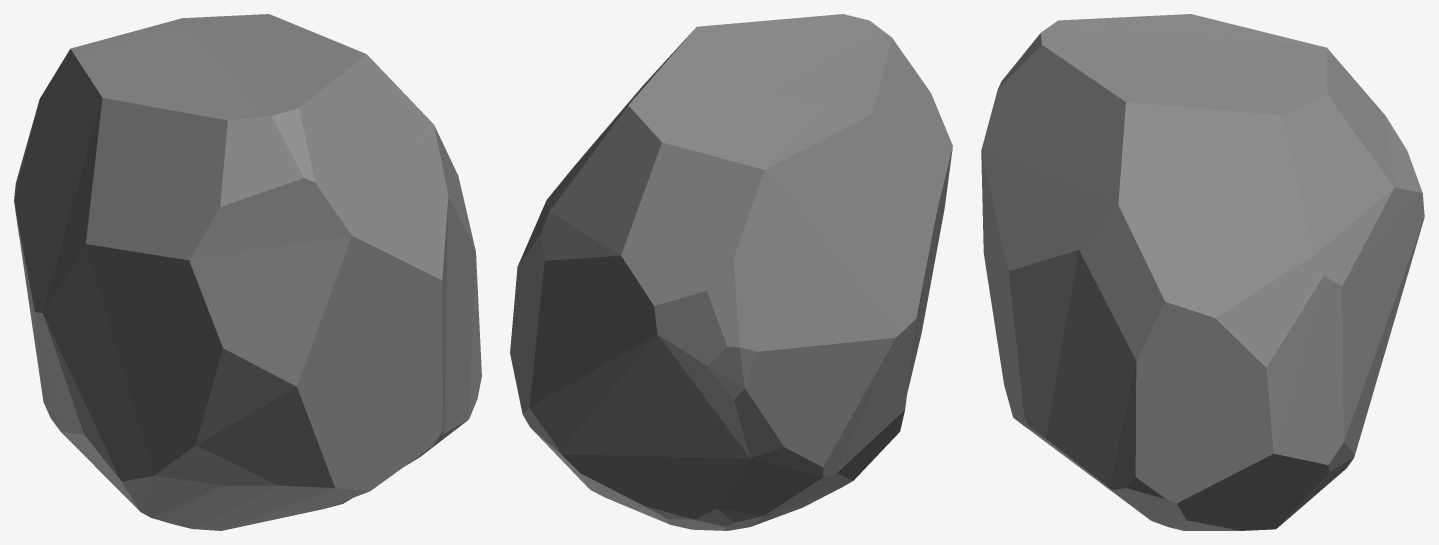
File: F_Stone_13_0.fbx
The picture shows the model from 3 angles, left to right: view 1: azimuth 30°, elevation 25°; view 2: azimuth 150°, elevation 25°; view 3: azimuth 270°, elevation 25°; orthographic projection. The views are drawn at different scales.
Visible parts, largest first — view 1: F_Stone_13_0; view 2: F_Stone_13_0; view 3: F_Stone_13_0.
Boxes of the visible parts, bbox=[...] form: F_Stone_13_0: bbox=[14, 14, 481, 530]; F_Stone_13_0: bbox=[510, 14, 952, 530]; F_Stone_13_0: bbox=[981, 14, 1424, 530].
Bounding box in the file's own units: 71.13 × 81.53 × 74.38.
1 material, 1 textured.
